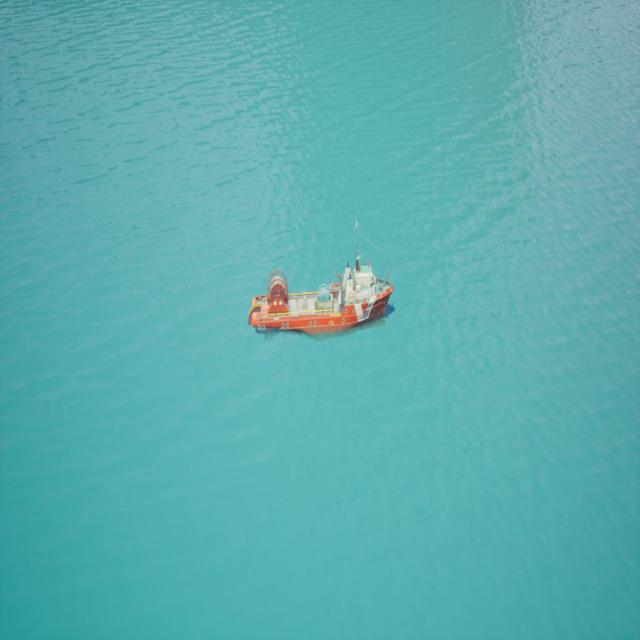tug boat: (248, 254, 400, 337)
